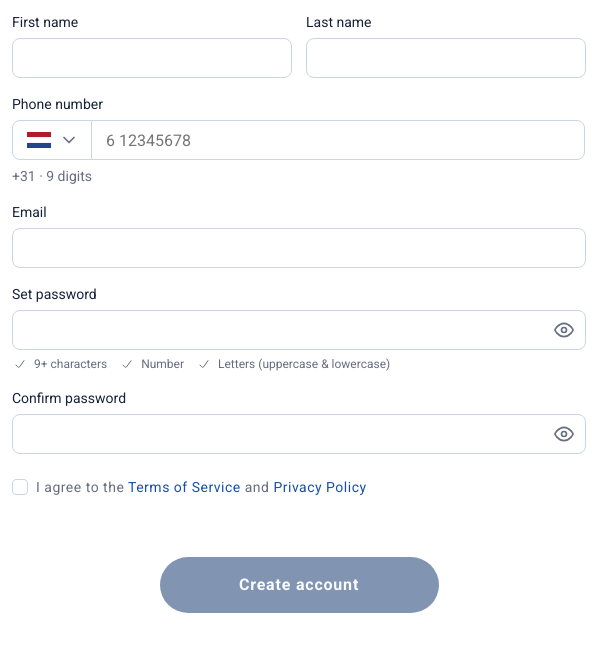
it: SignUpForm › drops the email error as soon as the address is complete
The width and height of the screenshot is (603, 656).
Type "ada@" into the field labelled "Email" at (299, 248), box [12,228,586,268]
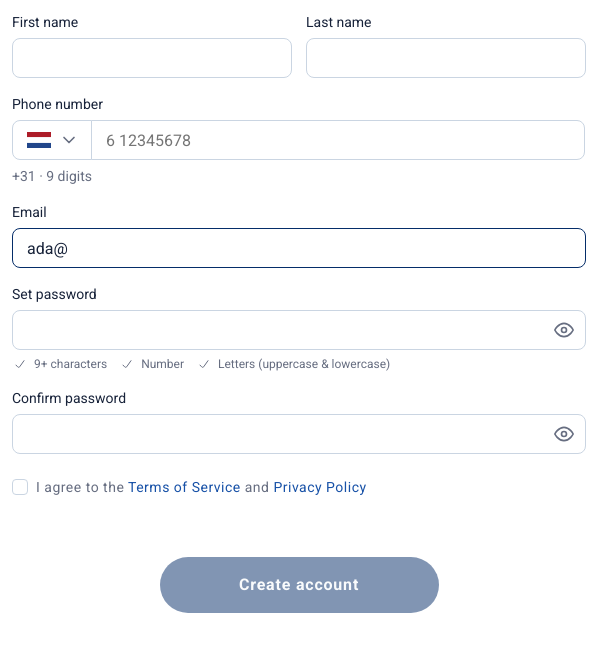
Press Tab
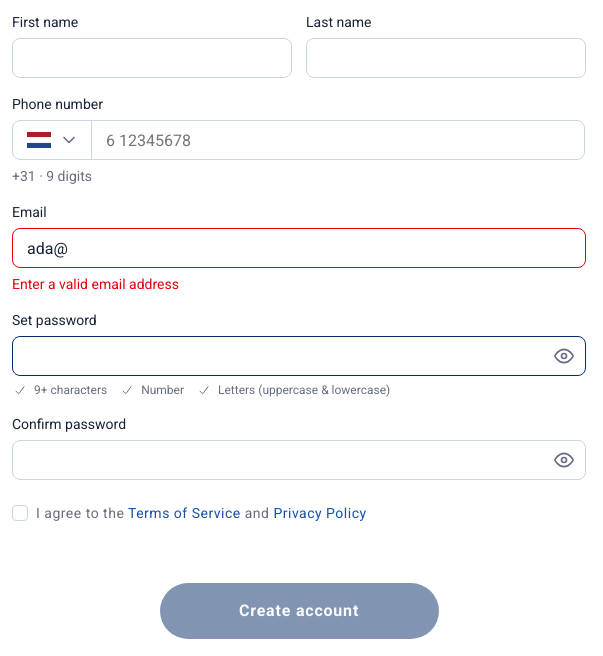
Expected: the text "Enter a valid email address" is shown, [12,276,179,292]
Type "example.com" into the field labelled "Email" at (299, 248), box [12,228,586,268]
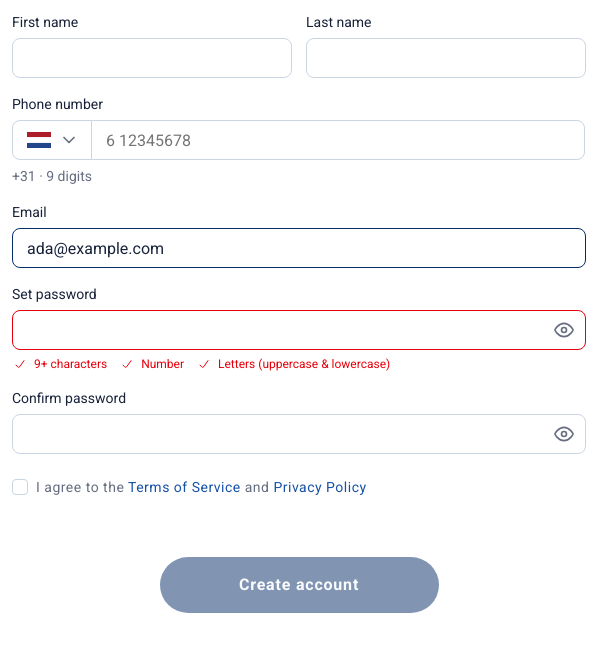
Expected: the text "Enter a valid email address" is gone
